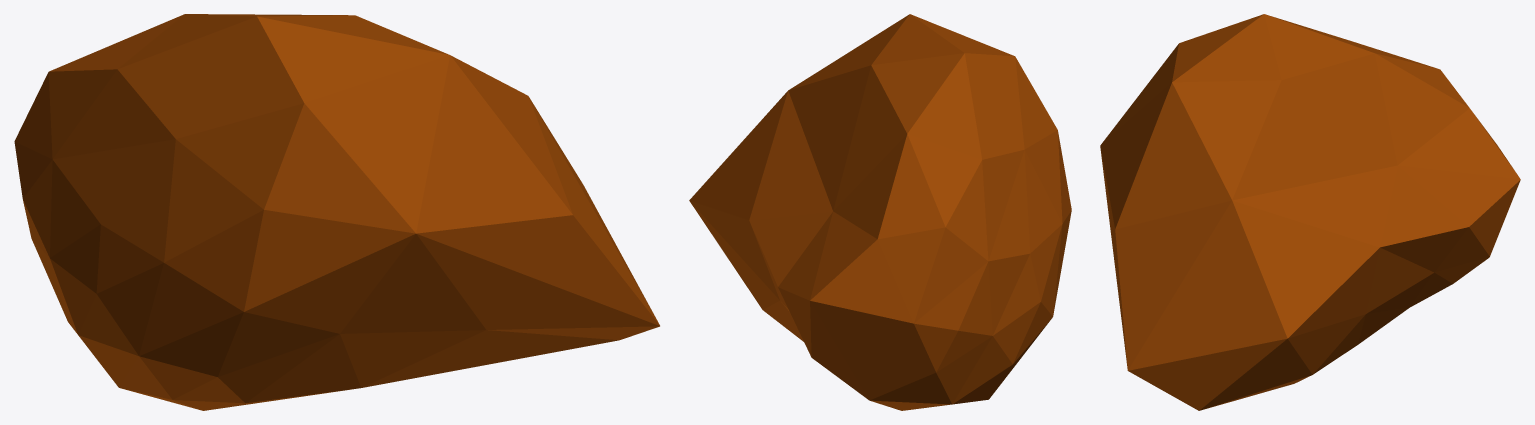
Rendered from SM_Bush_03.fbx.
3 views of the same model, side by side, from view 1: azimuth 30°, elevation 25°; view 2: azimuth 150°, elevation 25°; view 3: azimuth 270°, elevation 25° (orthographic). The views are drawn at different scales.
Parts seen in each view (by area): view 1: SM_Bush_03; view 2: SM_Bush_03; view 3: SM_Bush_03.
Boxes of the visible parts, bbox=[...] form: SM_Bush_03: bbox=[14, 14, 659, 410]; SM_Bush_03: bbox=[689, 14, 1071, 410]; SM_Bush_03: bbox=[1100, 14, 1520, 410].
Size of the model in its own units: 395 by 331 by 404.
